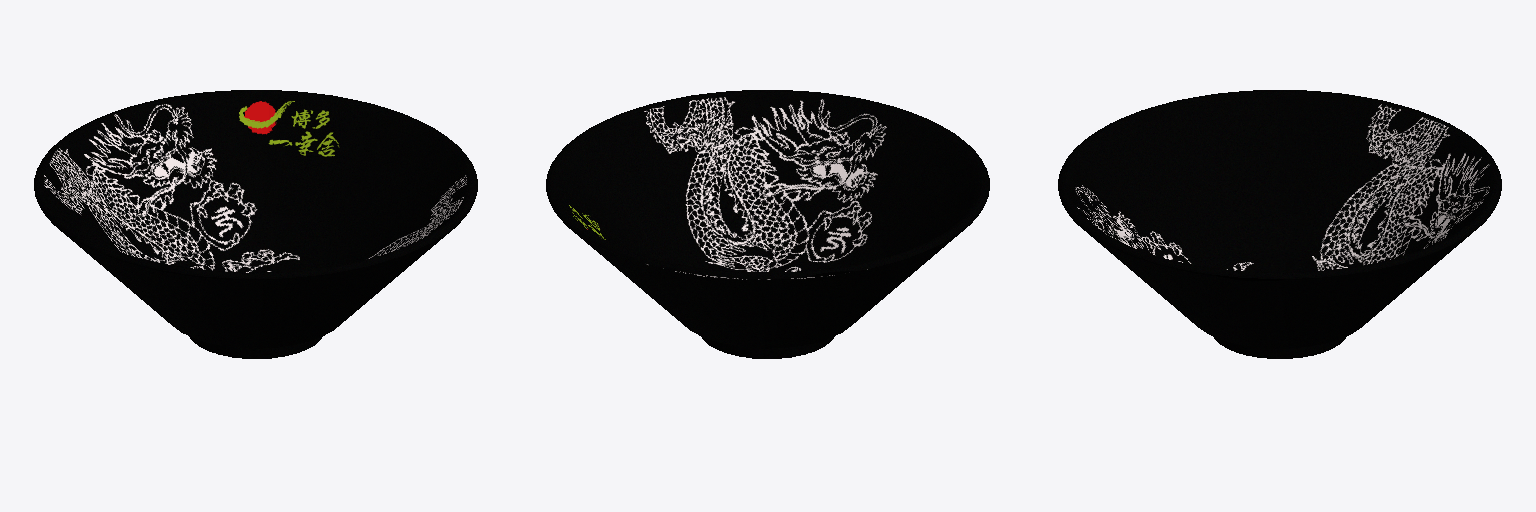
The picture shows the model from 3 angles: view 1: azimuth 30°, elevation 25°; view 2: azimuth 150°, elevation 25°; view 3: azimuth 270°, elevation 25°; orthographic projection.
Visible parts, largest first — view 1: Cylinder; view 2: Cylinder; view 3: Cylinder.
Part boxes in pixels (bbox=[...]): Cylinder: bbox=[34, 90, 477, 358]; Cylinder: bbox=[546, 90, 989, 358]; Cylinder: bbox=[1058, 90, 1501, 358].
Bounding box in the file's own units: 2.14 × 0.7908 × 2.14.
Materials: 1 (1 with a texture image).